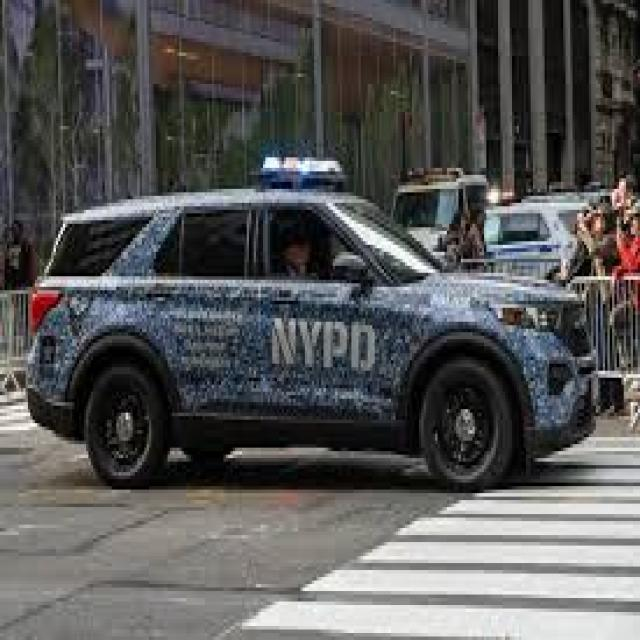cop: (27, 160, 600, 486)
